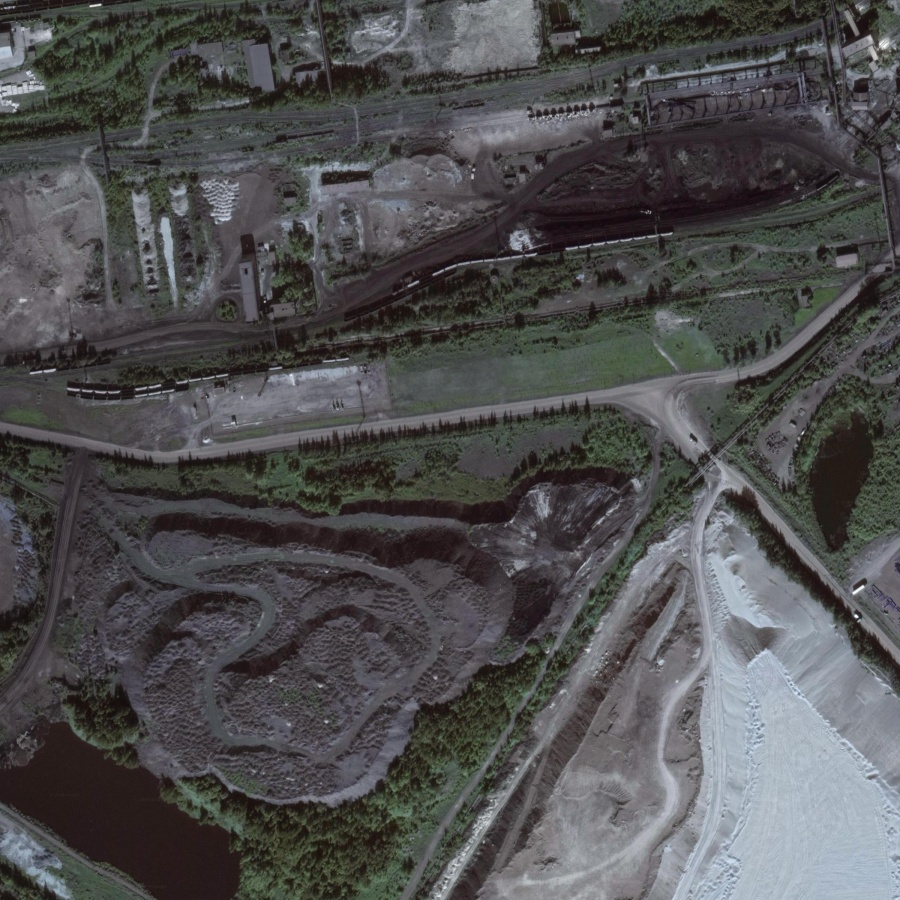PowerPlant: (408, 98, 848, 262)
